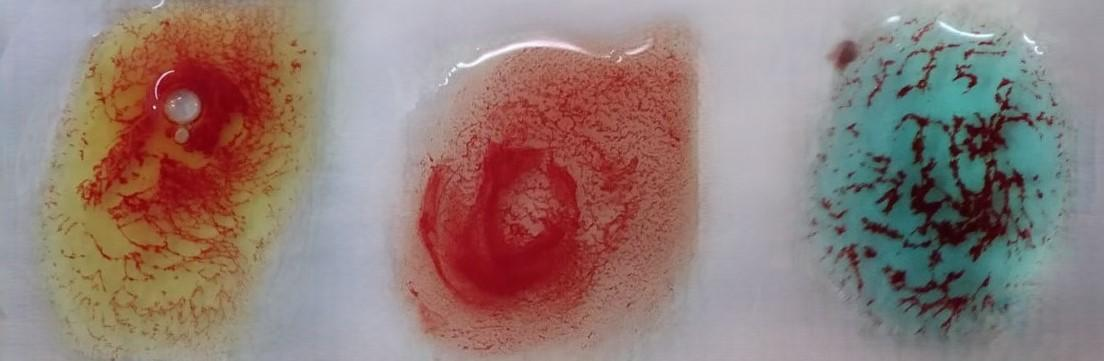A: (819, 30, 1050, 347)
B: (54, 0, 305, 361)
D: (397, 25, 693, 361)
